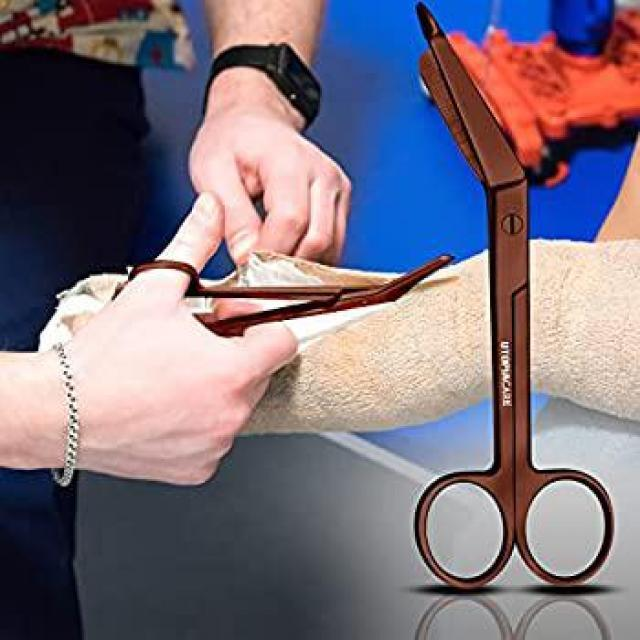scissors: (413, 0, 617, 593), (126, 253, 455, 339)
